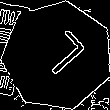L_SW: (28, 27, 87, 84)
